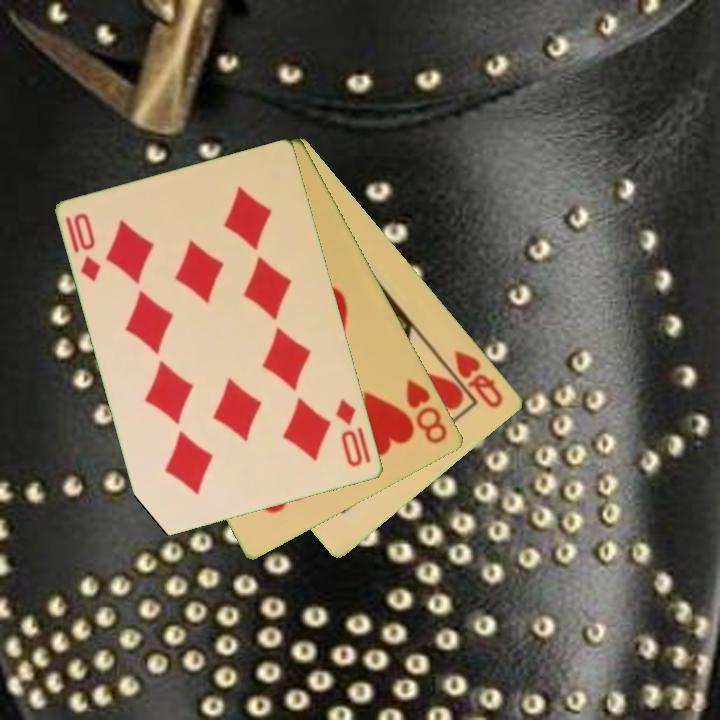10d: (70, 209, 104, 285), (333, 395, 366, 470)
8h: (403, 375, 451, 447)
Qh: (451, 347, 507, 412)
